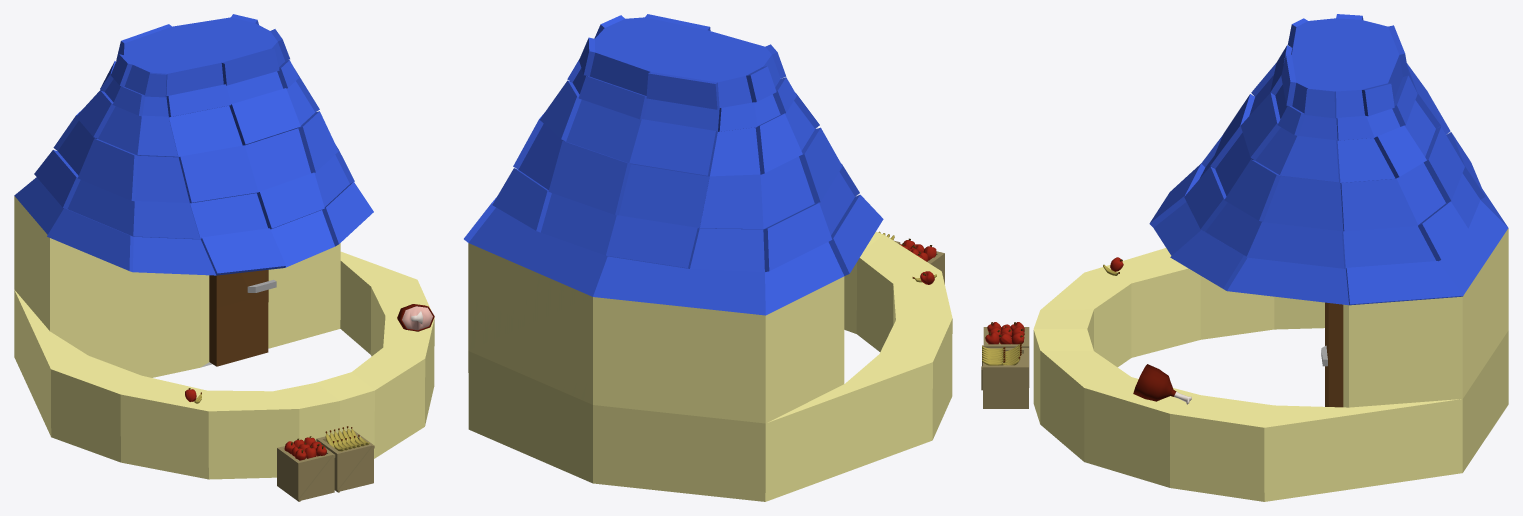
File: loja1.fbx
The picture shows the model from 3 angles, left to right: view 1: azimuth 30°, elevation 25°; view 2: azimuth 150°, elevation 25°; view 3: azimuth 270°, elevation 25°; orthographic projection. The views are drawn at different scales.
Visible parts, largest first — view 1: lojinha; view 2: lojinha; view 3: lojinha.
Part boxes in pixels (bbox=[...]): lojinha: bbox=[14, 14, 434, 501]; lojinha: bbox=[464, 14, 952, 501]; lojinha: bbox=[981, 14, 1508, 501].
Bounding box in the file's own units: 844 × 710 × 964.
